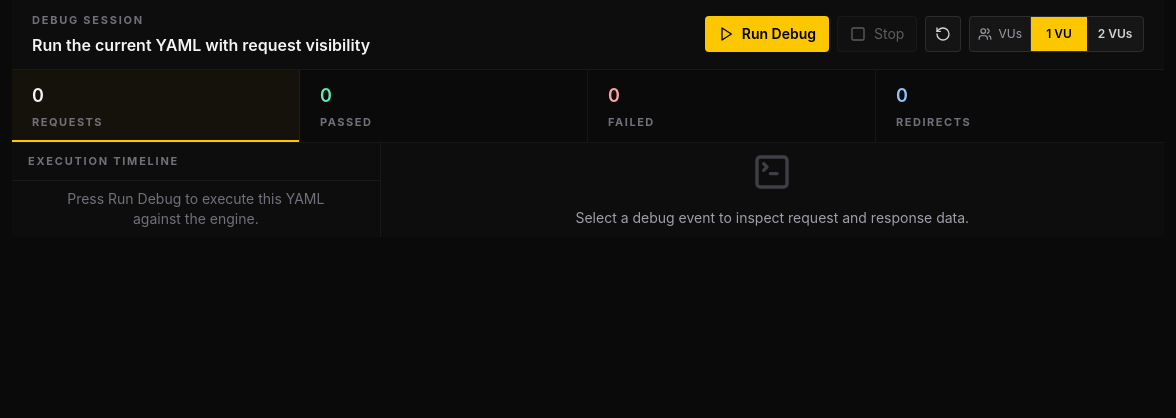
Test: YAMLDebugSession tree selection sync › keeps think time out of the timeline rows and the request totals
The width and height of the screenshot is (1176, 418).
Click the button "Run Debug".
click(767, 34)  # box [705, 16, 829, 52]
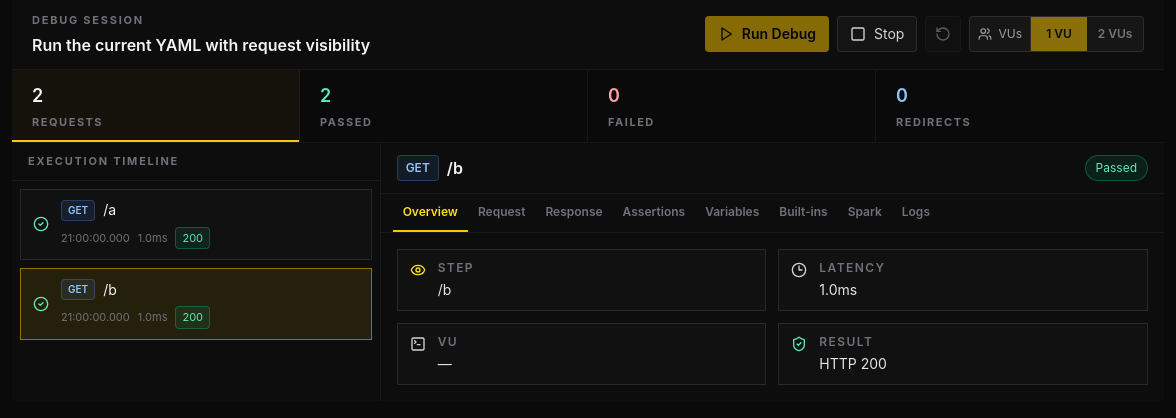
Expected: the 2nd text "2" is shown, [320, 84, 331, 106]
